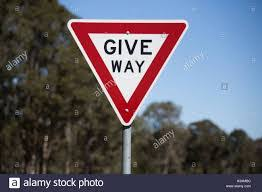giveway: (65, 18, 190, 128), (63, 10, 125, 101), (138, 19, 182, 125)
